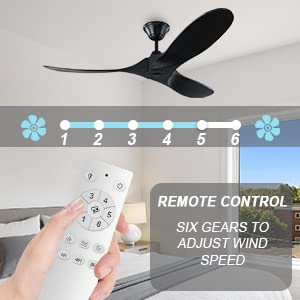ADJUST: (177, 238, 231, 248)
CONTROL: (221, 196, 287, 207)
REMOTE: (158, 196, 217, 207)
SPEED: (201, 255, 245, 265)
TO: (252, 222, 269, 232)
WIND: (233, 237, 267, 248)
